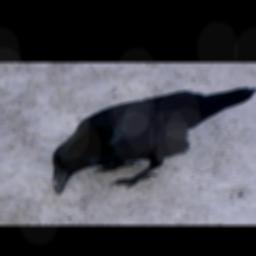Crow: (53, 87, 256, 194)
